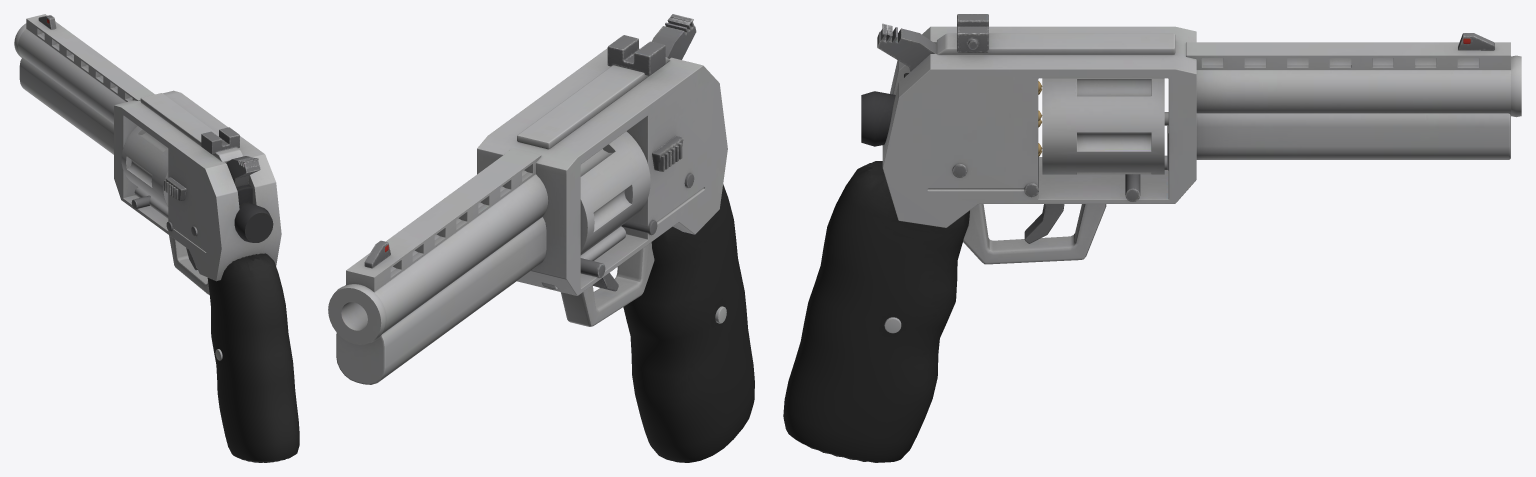
The model's file is poxiao.glb.
3 renders of one model, left to right at view 1: azimuth 30°, elevation 25°; view 2: azimuth 150°, elevation 25°; view 3: azimuth 270°, elevation 25°, orthographic. The views are drawn at different scales.
Parts seen in each view (by area): view 1: body, cylinder, magazine, hammer; view 2: body, cylinder, hammer; view 3: body, cylinder, magazine, hammer, trigger.
Part boxes in pixels (x1,y1,x2,y2): body: (14,14,299,462); cylinder: (121,126,168,218); magazine: (234,184,273,242); hammer: (226,156,260,187); body: (328,35,754,462); cylinder: (542,131,650,289); hammer: (652,14,696,59); body: (783,14,1521,462); cylinder: (1042,78,1168,174); magazine: (861,73,1042,156); hammer: (877,23,936,71); trigger: (1024,204,1064,243).
Bounding box in the file's own units: 0.0445 × 0.1788 × 0.2773.
Materials: 1 (1 with a texture image).
